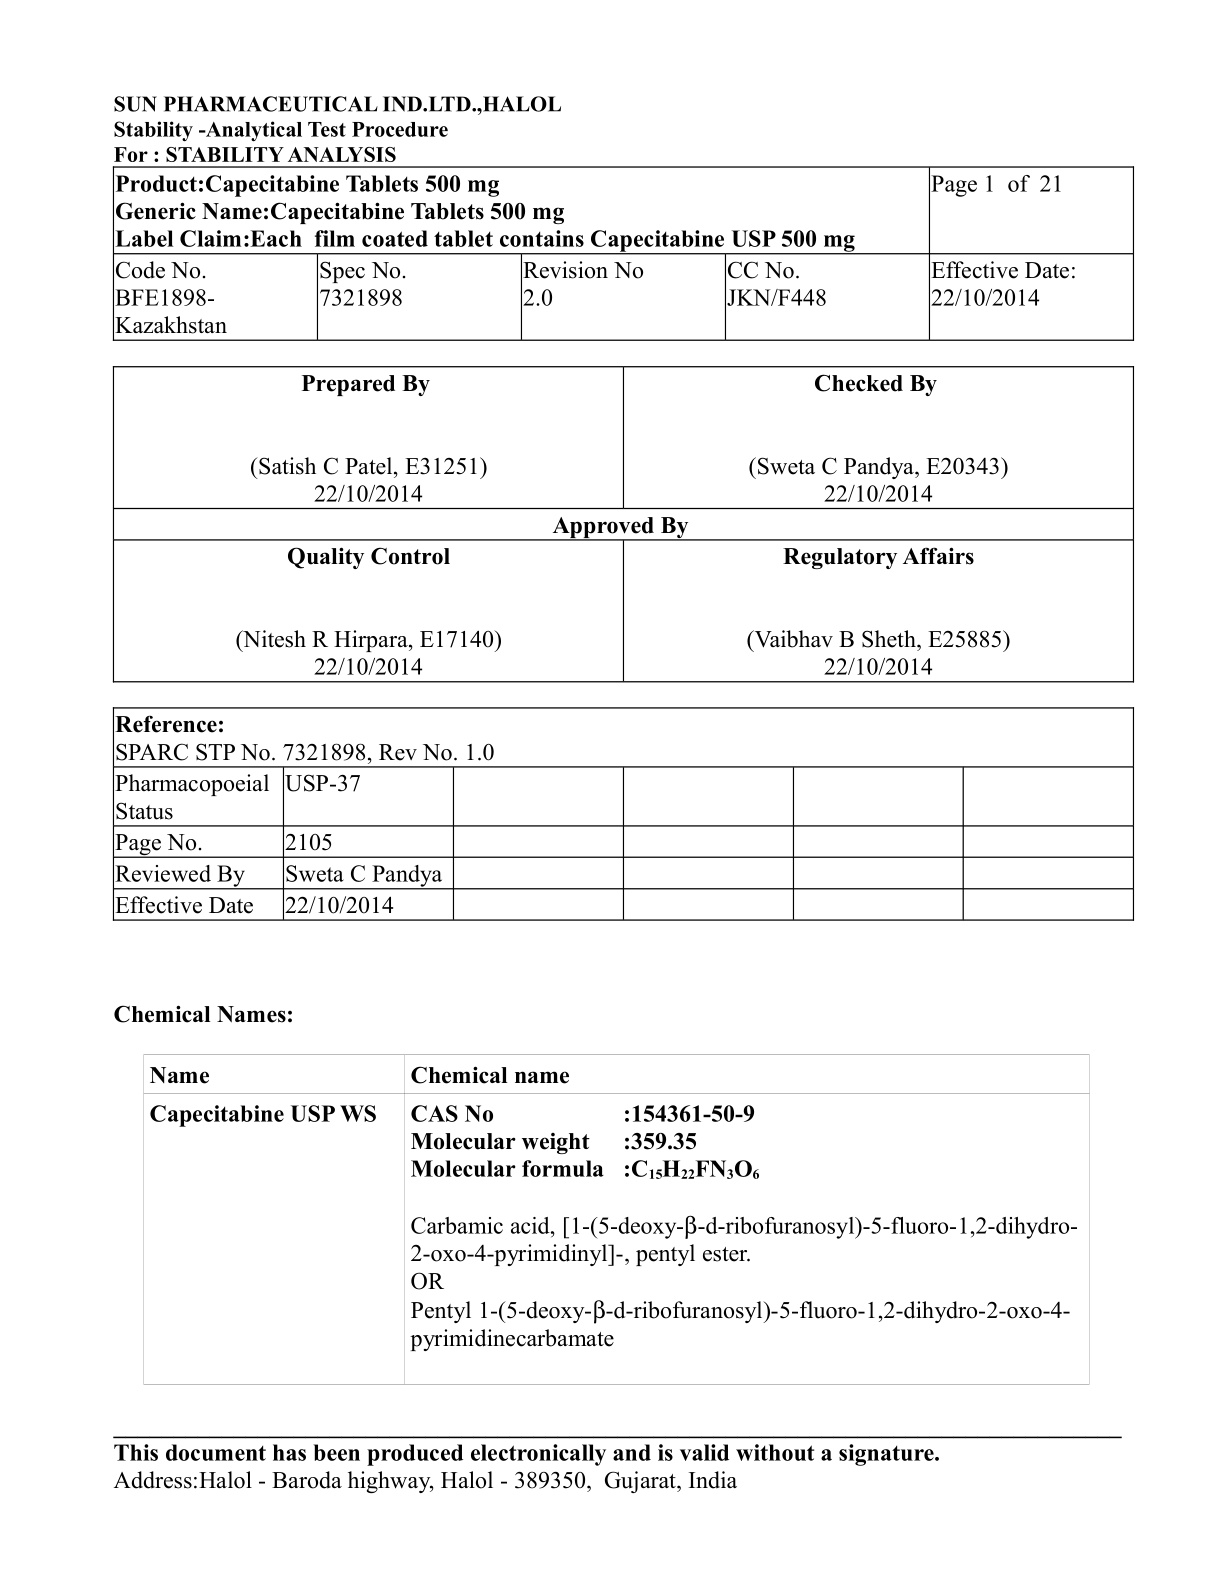full_lined: (141, 1053, 1092, 1386)
merged_cells: (112, 364, 1135, 684), (111, 706, 1134, 921), (111, 165, 1135, 342)
